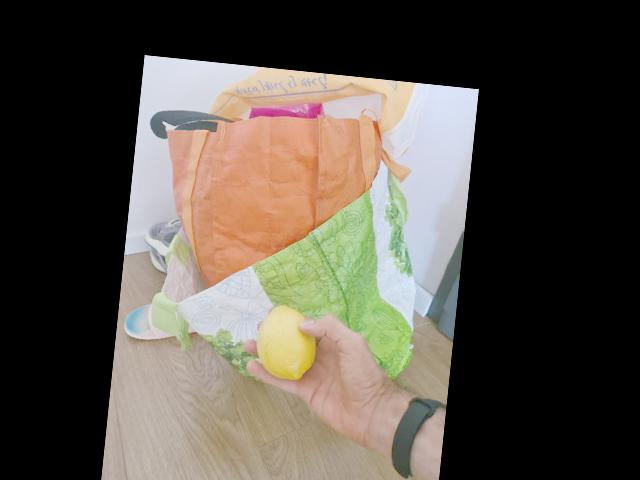lemon: (253, 303, 322, 383)
